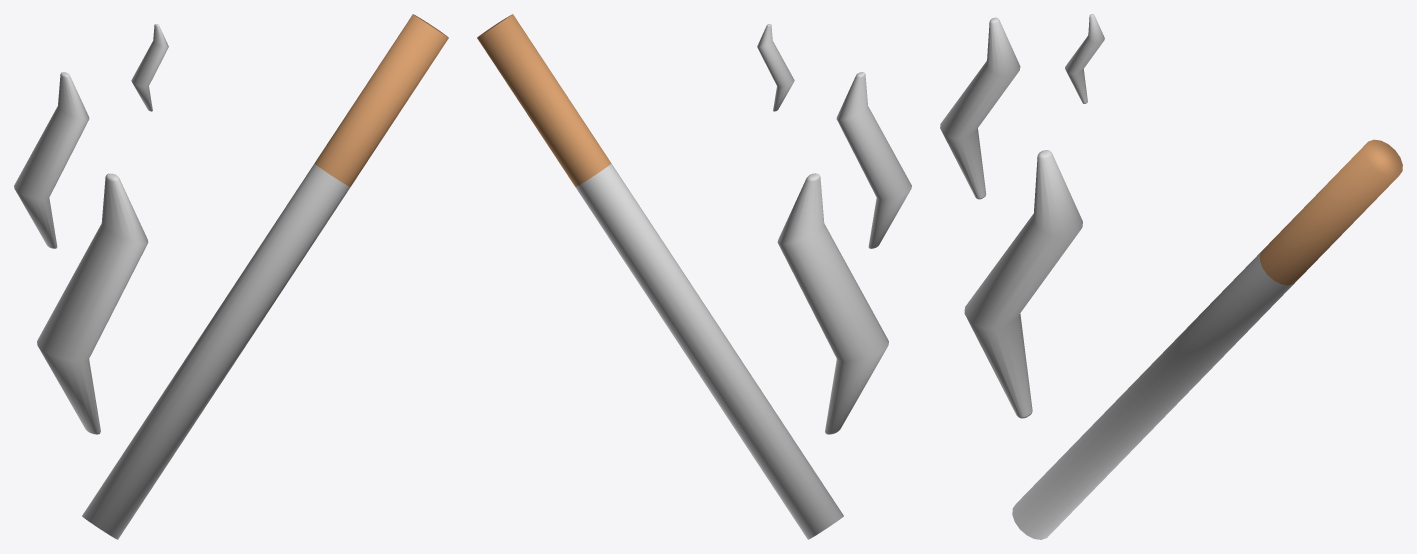
File: Smoke.fbx
3 renders of one model, left to right at view 1: azimuth 30°, elevation 25°; view 2: azimuth 150°, elevation 25°; view 3: azimuth 330°, elevation 25°, orthographic. The views are drawn at different scales.
Parts seen in each view (by area): view 1: Cylinder; view 2: Cylinder; view 3: Cylinder.
Part boxes in pixels (bbox=[...]): Cylinder: bbox=[14, 14, 448, 539]; Cylinder: bbox=[477, 14, 911, 539]; Cylinder: bbox=[940, 14, 1402, 539].
Bounding box in the file's own units: 1.64 × 1.84 × 0.2218.
